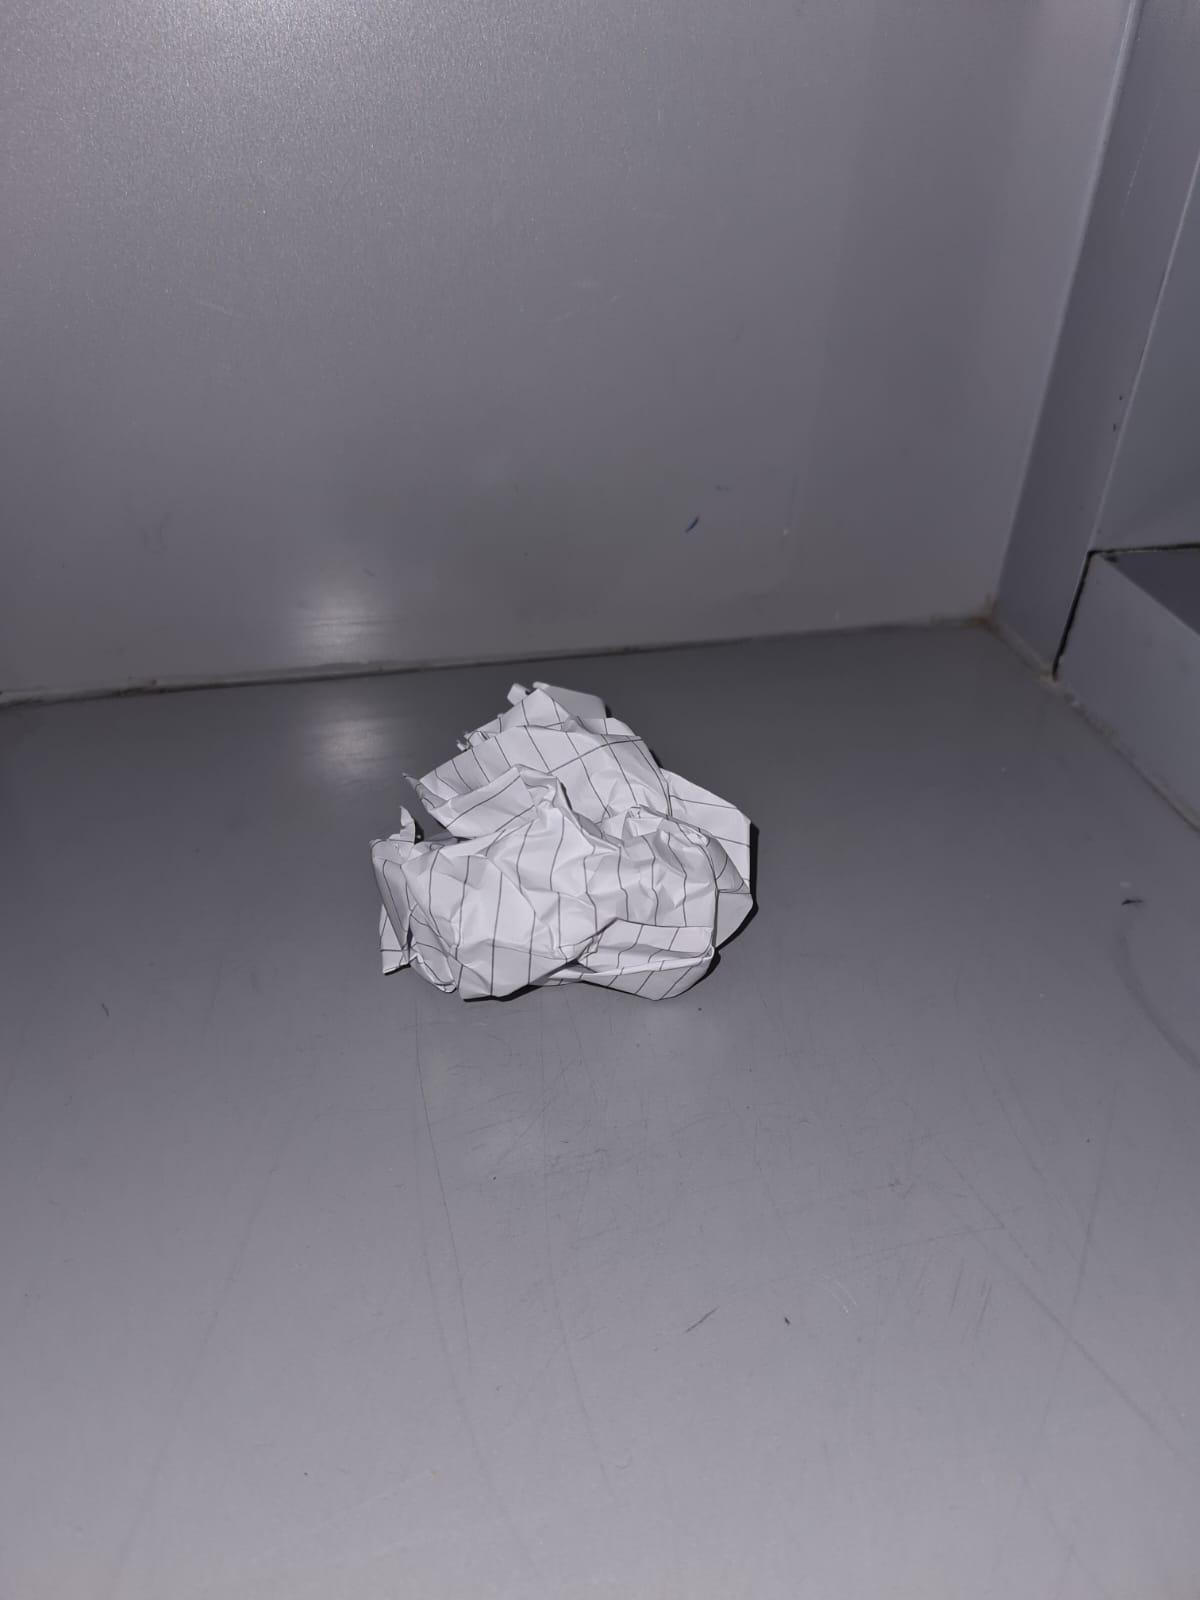Paper: (365, 674, 774, 1014)
